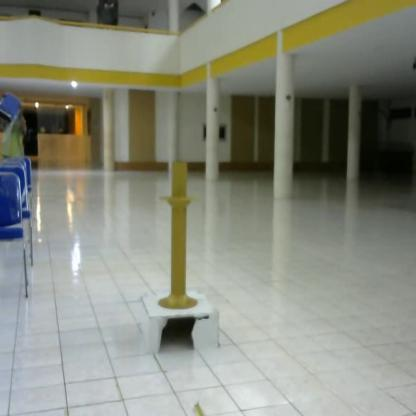pole: (156, 157, 207, 317)
